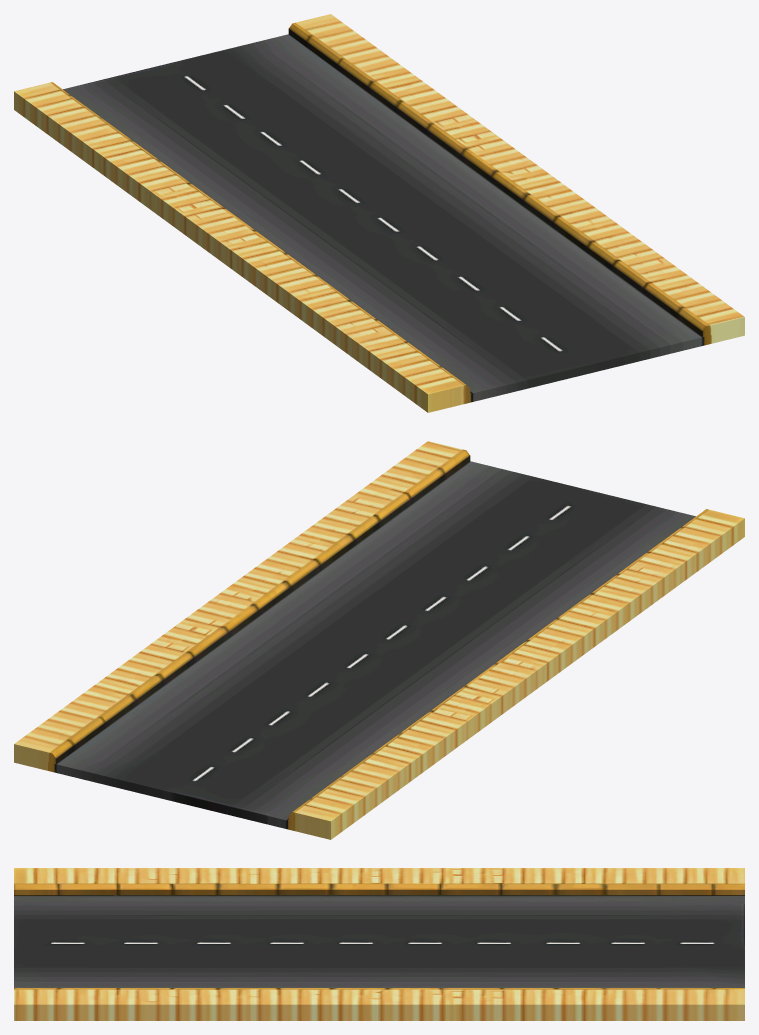
Rendered from Road1.glb.
3 renders of one model, top to bottom at view 1: azimuth 30°, elevation 25°; view 2: azimuth 150°, elevation 25°; view 3: azimuth 270°, elevation 25°, orthographic. The views are drawn at different scales.
Visible parts, largest first — view 1: Road1; view 2: Road1; view 3: Road1.
Boxes of the visible parts, x1,y1,x2,y2 form: Road1: (14,14,744,412); Road1: (14,441,744,839); Road1: (14,868,744,1020).
Size of the model in its own units: 113 by 6.29 by 255.
1 material, 1 textured.
